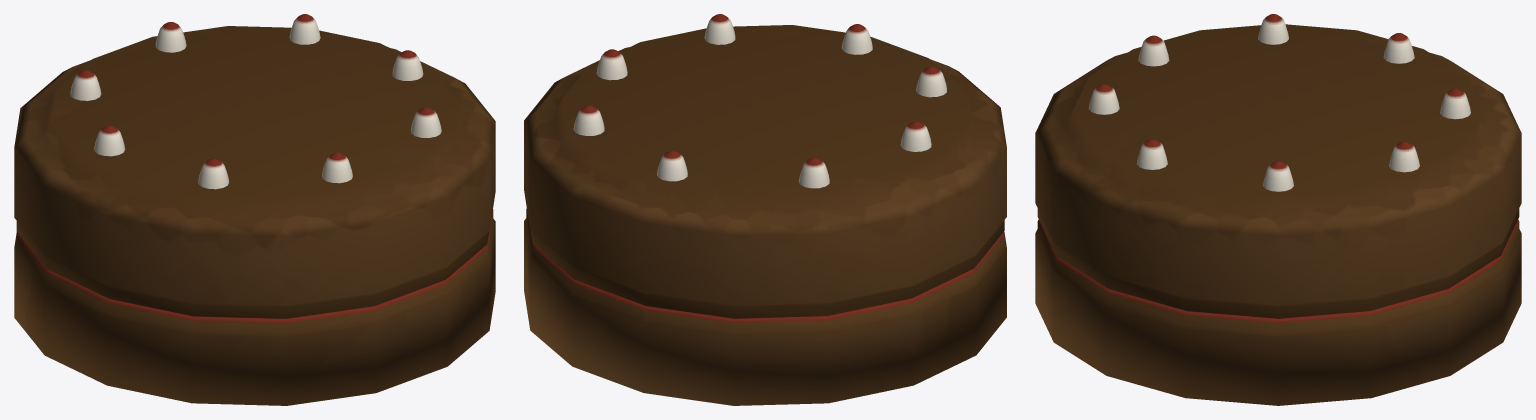
The model's file is Cake_asset.fbx.
The picture shows the model from 3 angles, left to right: view 1: azimuth 30°, elevation 25°; view 2: azimuth 150°, elevation 25°; view 3: azimuth 270°, elevation 25°; orthographic projection.
Parts seen in each view (by area): view 1: pCylinder10; view 2: pCylinder10; view 3: pCylinder10.
Part boxes in pixels (x1=…): pCylinder10: x1=14, y1=14, x2=495, y2=405; pCylinder10: x1=524, y1=14, x2=1006, y2=405; pCylinder10: x1=1035, y1=14, x2=1521, y2=405.
Size of the model in its own units: 2 by 0.9823 by 2.
